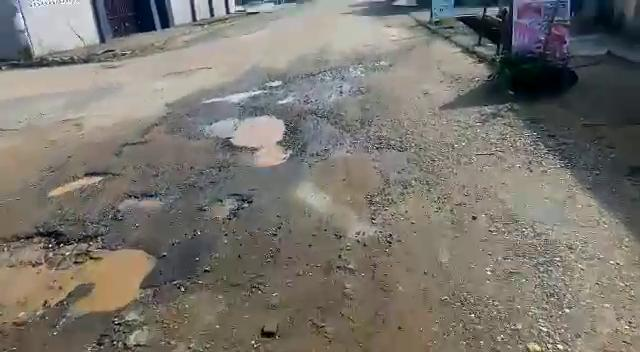pothole: (3, 234, 168, 348), (206, 114, 293, 169), (51, 169, 119, 195), (115, 191, 165, 210), (212, 87, 267, 102)
